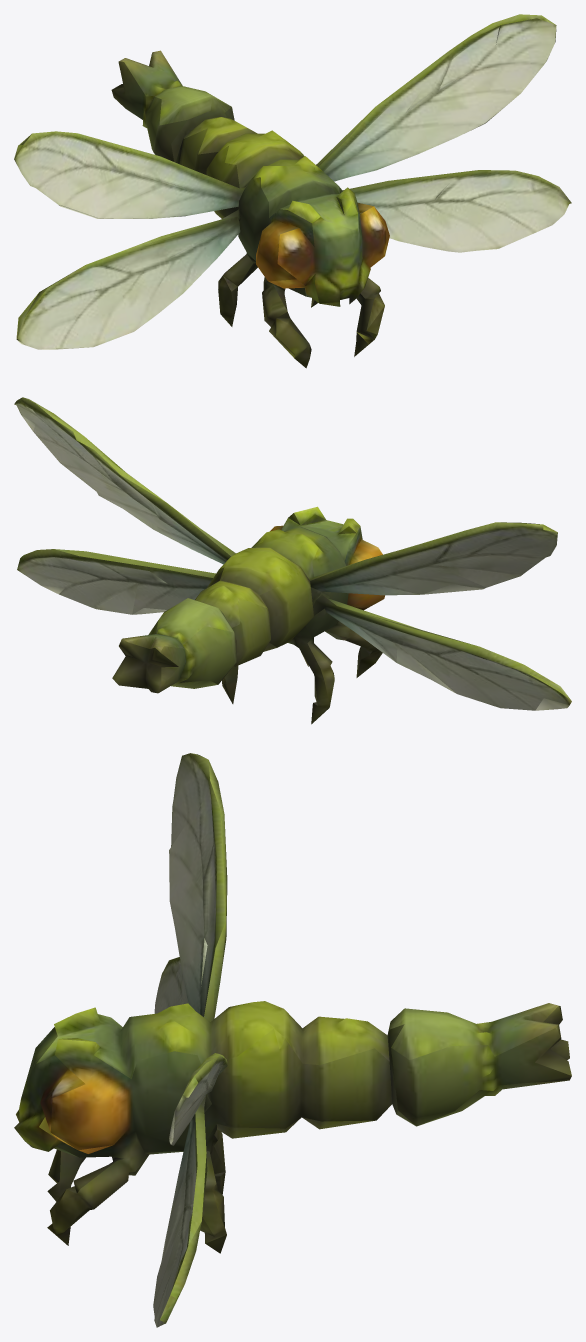
The model's file is m_libellule_marais.glb.
The picture shows the model from 3 angles, top to bottom: view 1: azimuth 30°, elevation 25°; view 2: azimuth 150°, elevation 25°; view 3: azimuth 270°, elevation 25°; orthographic projection. The views are drawn at different scales.
Visible parts, largest first — view 1: monstre; view 2: monstre; view 3: monstre.
Boxes of the visible parts, x1,y1,x2,y2 form: monstre: [14, 14, 571, 368]; monstre: [14, 397, 571, 724]; monstre: [14, 753, 571, 1327].
Bounding box in the file's own units: 1 × 0.4316 × 0.6807.
1 material, 1 textured.
